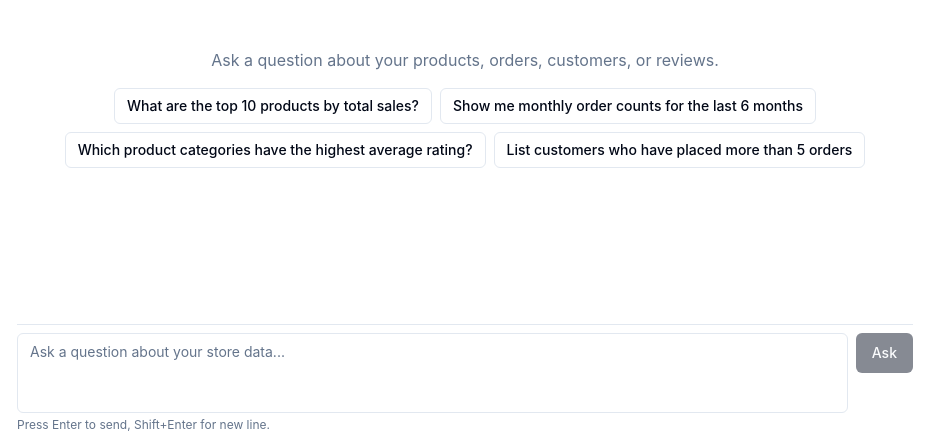
AiAnalyticsChat › disables input and button while loading
The image size is (931, 448).
In the text box with placeholder "Ask a question about your store data...": (432, 373) left=17, top=333, right=848, bottom=413, type "Loading test"
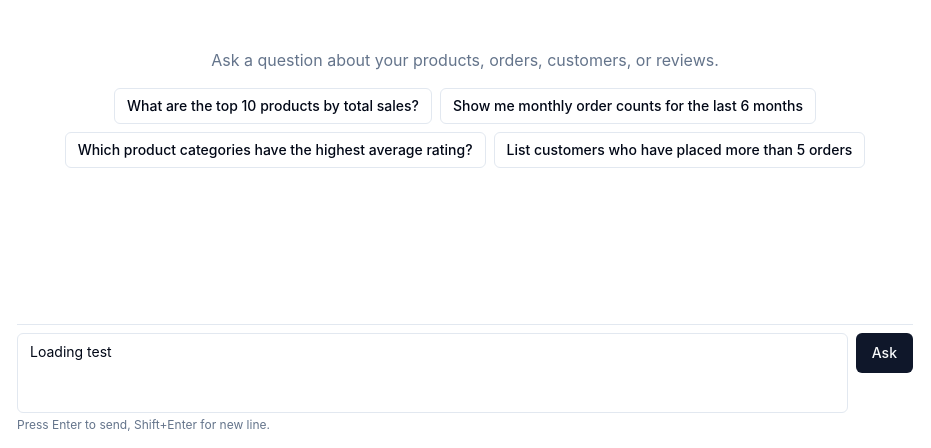
Click the button "Ask": (884, 353) left=856, top=333, right=913, bottom=373
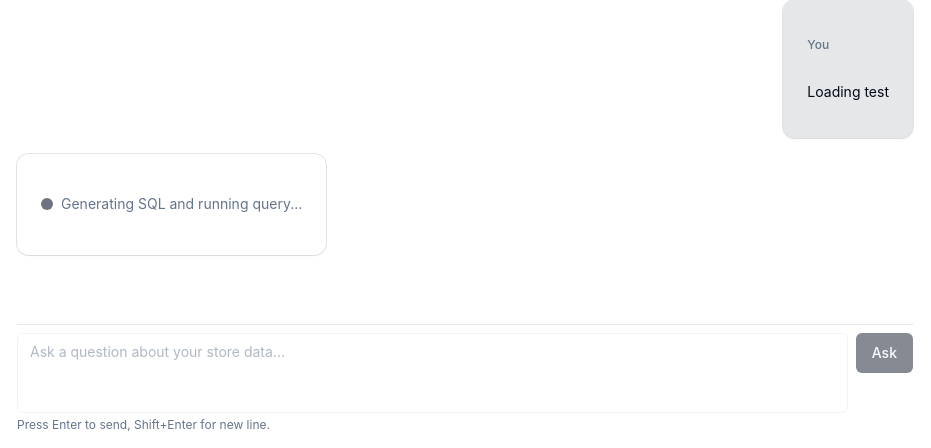
Now the text box with placeholder "Ask a question about your store data..." is disabled, box left=17, top=333, right=848, bottom=413
Now the button "Ask" is disabled, box left=856, top=333, right=913, bottom=373
